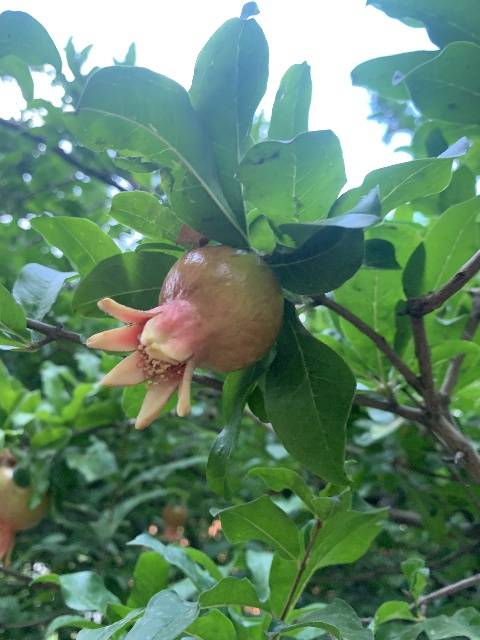early-fruit: (86, 245, 283, 430)
